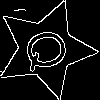Q: (20, 24, 79, 75)
